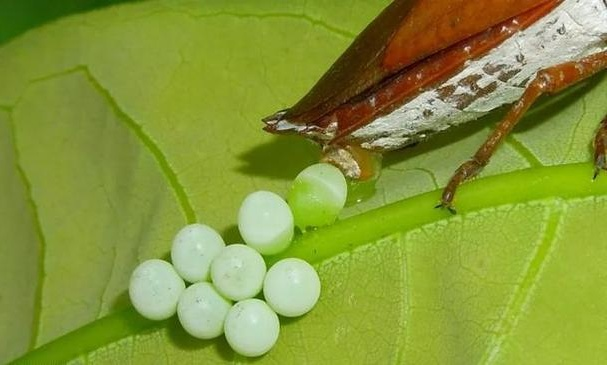Stink_Bug: (301, 0, 607, 151), (126, 175, 342, 326)
